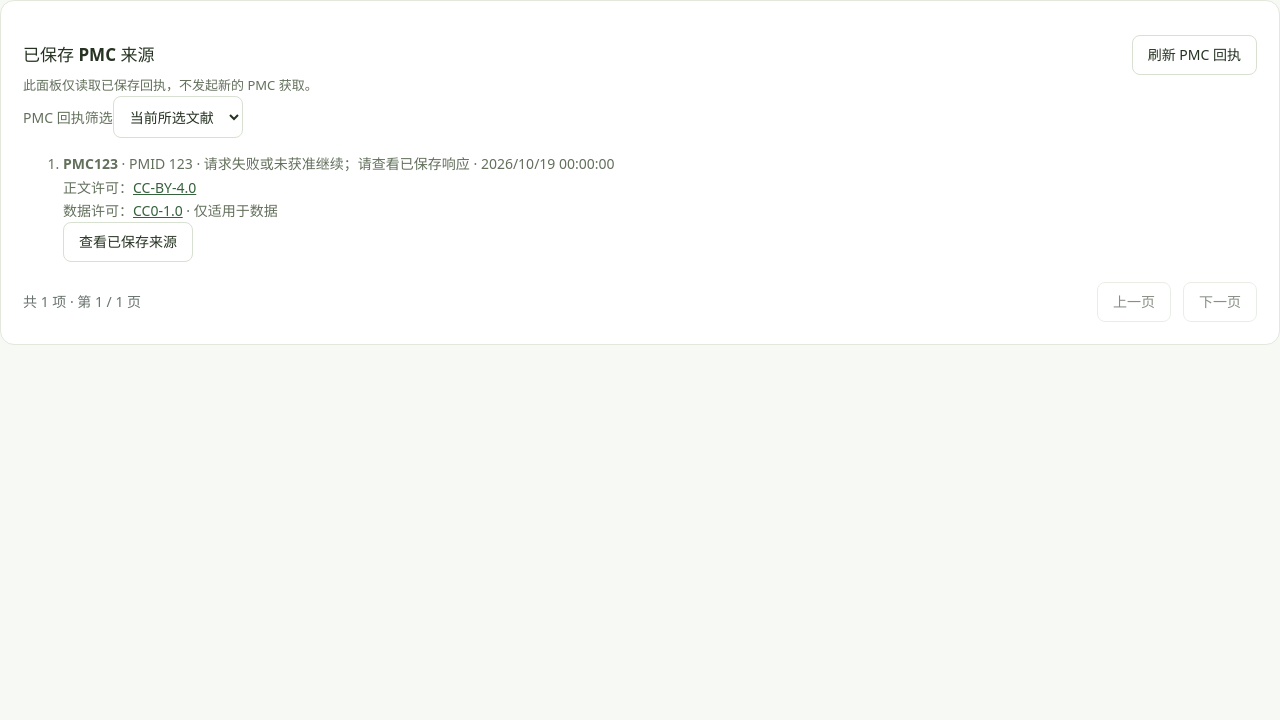
it: shows failed or unrequested PMC transport honestly and keeps old receipts readable in zh-CN
Click the button "查看已保存来源" at [128, 242], box [63,222,193,262]
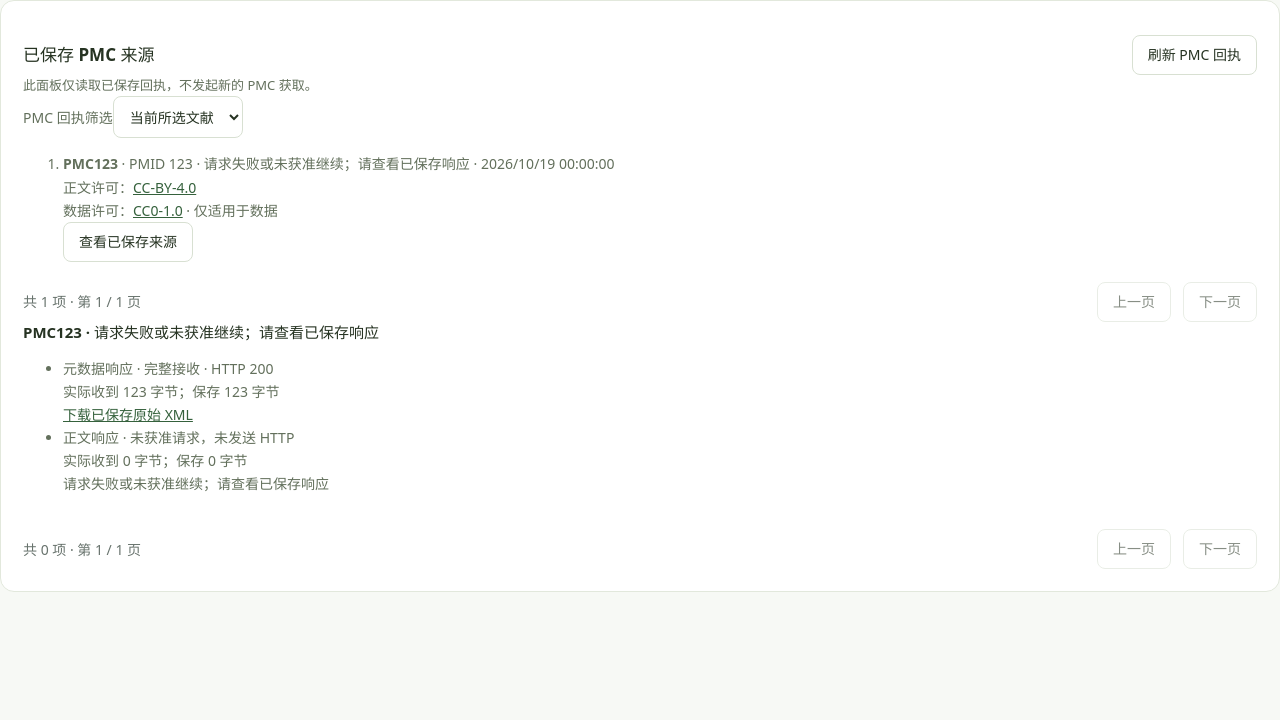
Expected: the link "CC0-1.0" is shown, [133,201,183,220]
Expected: the text "正文响应 · 未获准请求，未发送 HTTP" is shown, [63,428,294,447]
Expected: the number of links "下载已保存原始 XML" is 1, [63,405,193,424]
